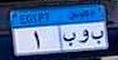1: (33, 30, 43, 49)
baa: (62, 31, 77, 48), (91, 27, 104, 46)
waw: (78, 28, 90, 46)
